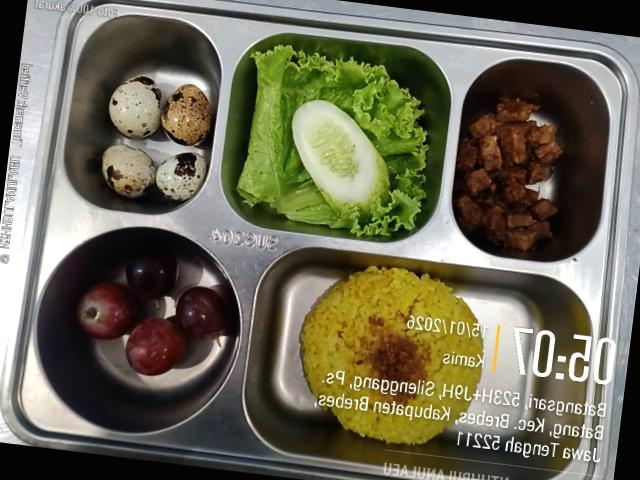buah: (76, 249, 226, 375)
nasi: (300, 266, 482, 444)
sayur: (236, 45, 427, 236)
telur: (163, 153, 204, 201)
tempe: (454, 99, 560, 251)
